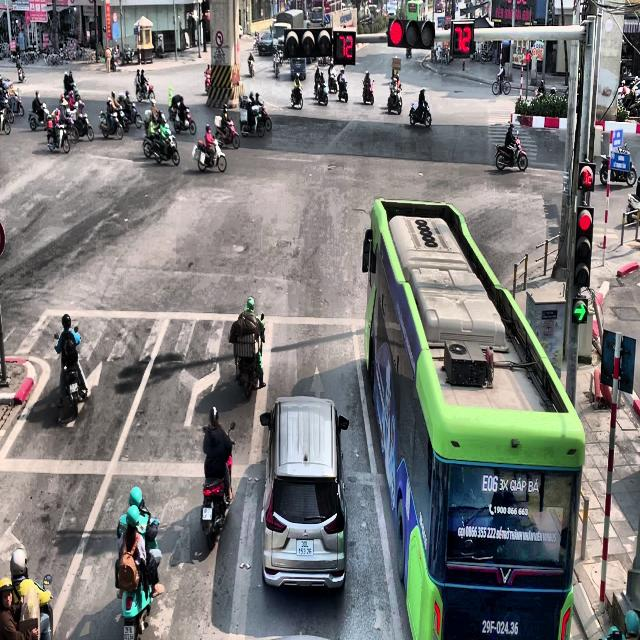lisence_plate: (480, 617, 520, 636), (295, 538, 314, 557), (123, 623, 137, 639), (201, 506, 213, 522)
